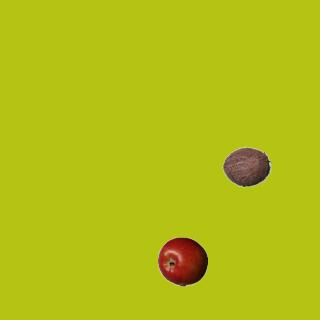Apple Braeburn: (157, 236, 207, 286)
Cocos: (221, 141, 271, 191)
